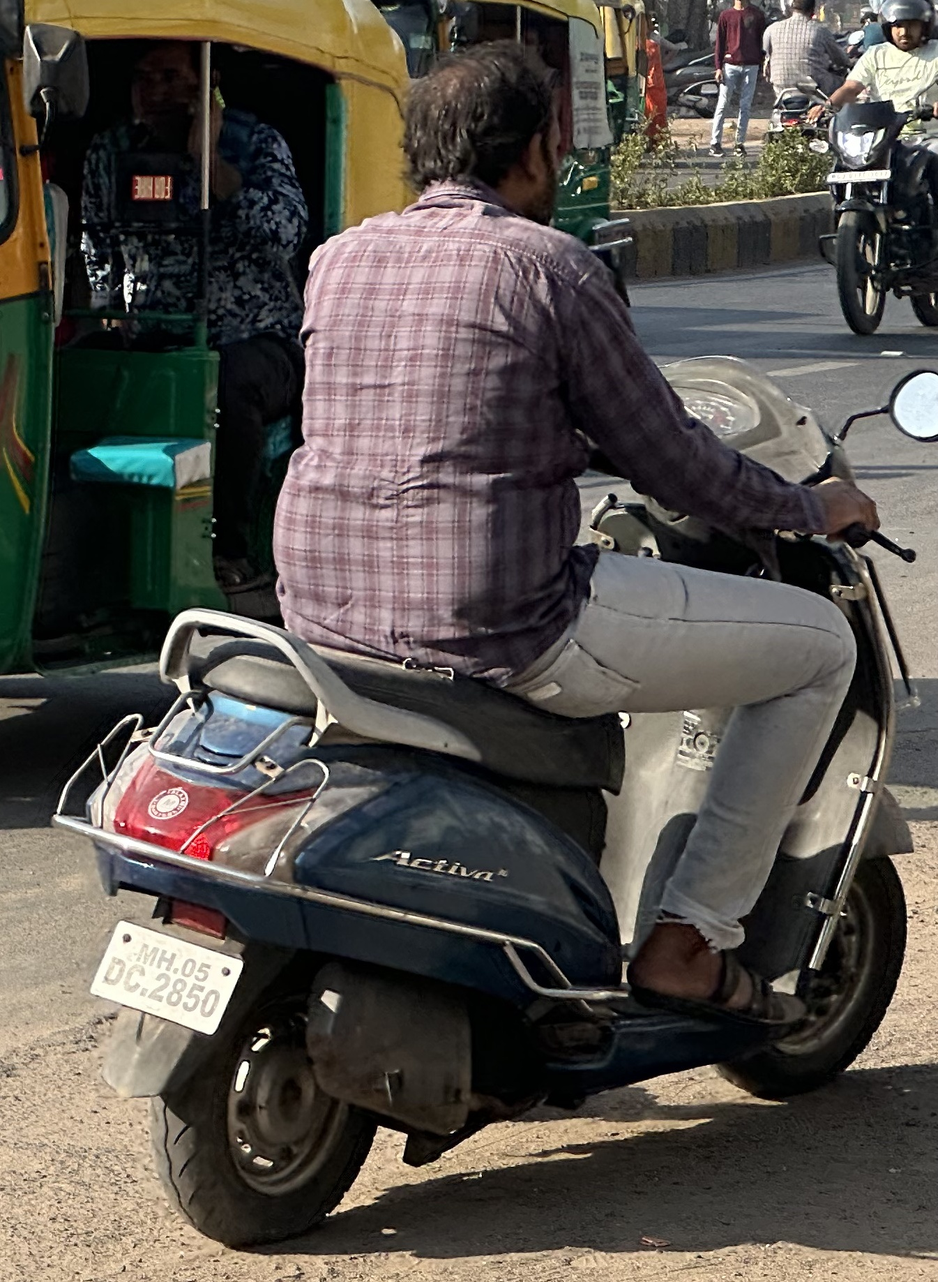BikeWithRider: (34, 21, 938, 1249), (800, 0, 938, 368)
Helmet: (876, 0, 938, 62)
NoHelmet: (372, 29, 595, 252)
